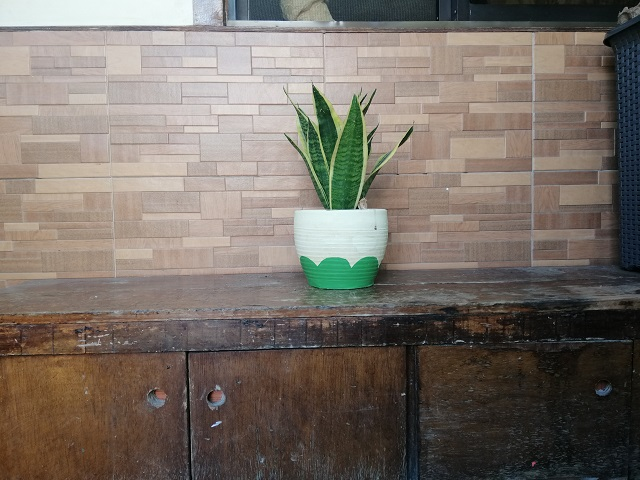plant: (281, 82, 399, 289)
wall: (3, 33, 273, 270), (416, 36, 611, 261)
